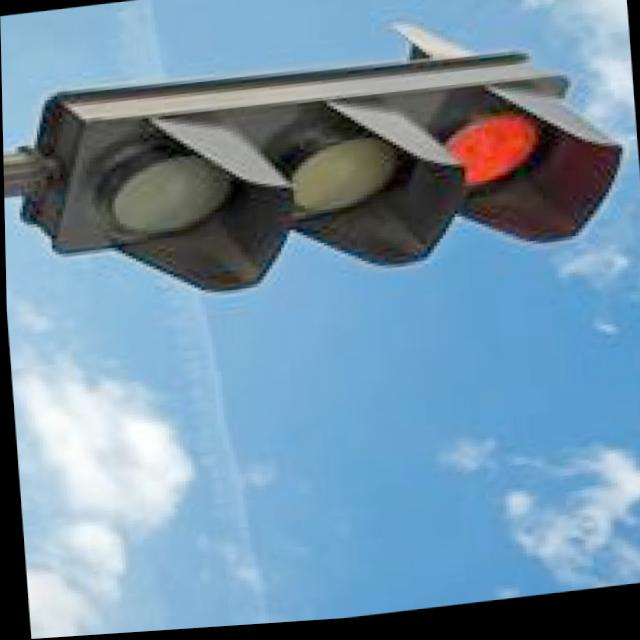red_light: (426, 48, 608, 269)
